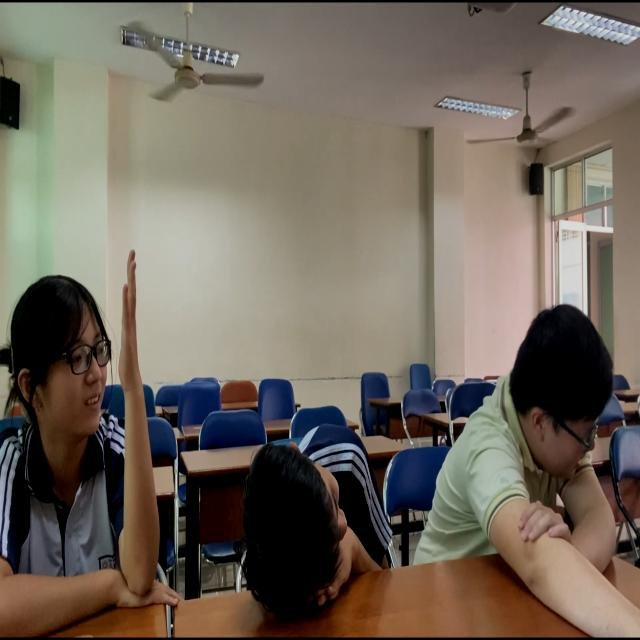raise_hand: (1, 236, 159, 640)
sleep: (205, 416, 419, 627)
